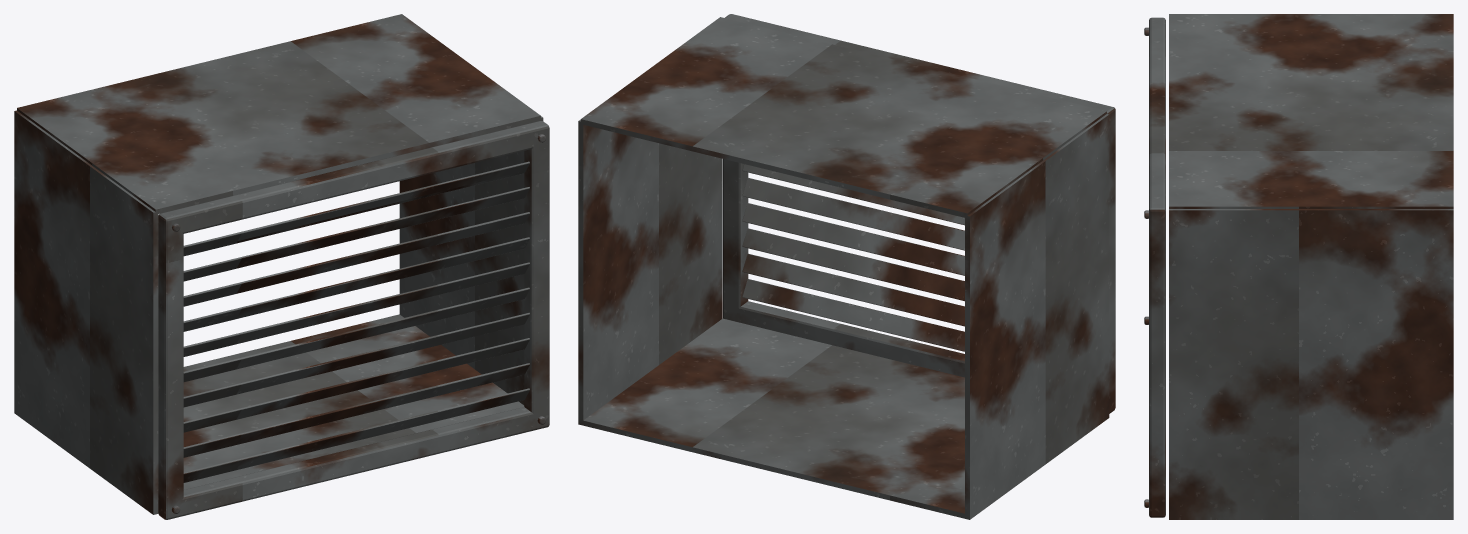
Rendered from F24_wall_vent_grate.glb.
The picture shows the model from 3 angles, left to right: view 1: azimuth 30°, elevation 25°; view 2: azimuth 150°, elevation 25°; view 3: azimuth 270°, elevation 25°; orthographic projection. The views are drawn at different scales.
Visible parts, largest first — view 1: F24_wall_vent_grate; view 2: F24_wall_vent_grate; view 3: F24_wall_vent_grate.
Part boxes in pixels (box(x1,y1,x2,y2)): F24_wall_vent_grate: box(14, 14, 549, 519); F24_wall_vent_grate: box(578, 14, 1115, 519); F24_wall_vent_grate: box(1144, 14, 1453, 519).
Bounding box in the file's own units: 0.8 × 0.5975 × 0.5363.
2 materials, 2 textured.
